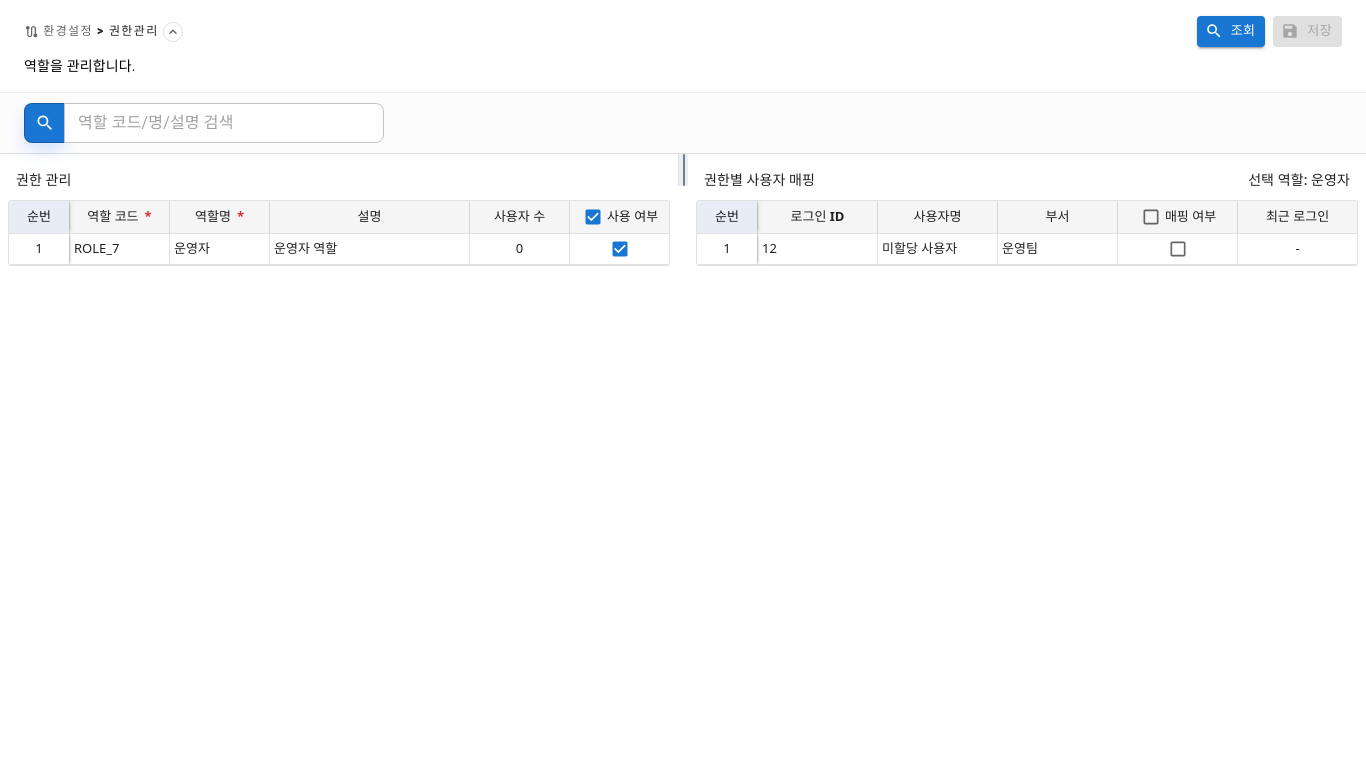
Test: RoleManagementPage notifications › shows the shared success toast after a silent mapping save completes
This screenshot has width=1366, height=768.
What coordinates should you click on to do the following:
click the checkbox named "매핑 여부 12"
I would click on:
 (1178, 249)
Its box is left=1168, top=239, right=1188, bottom=259.
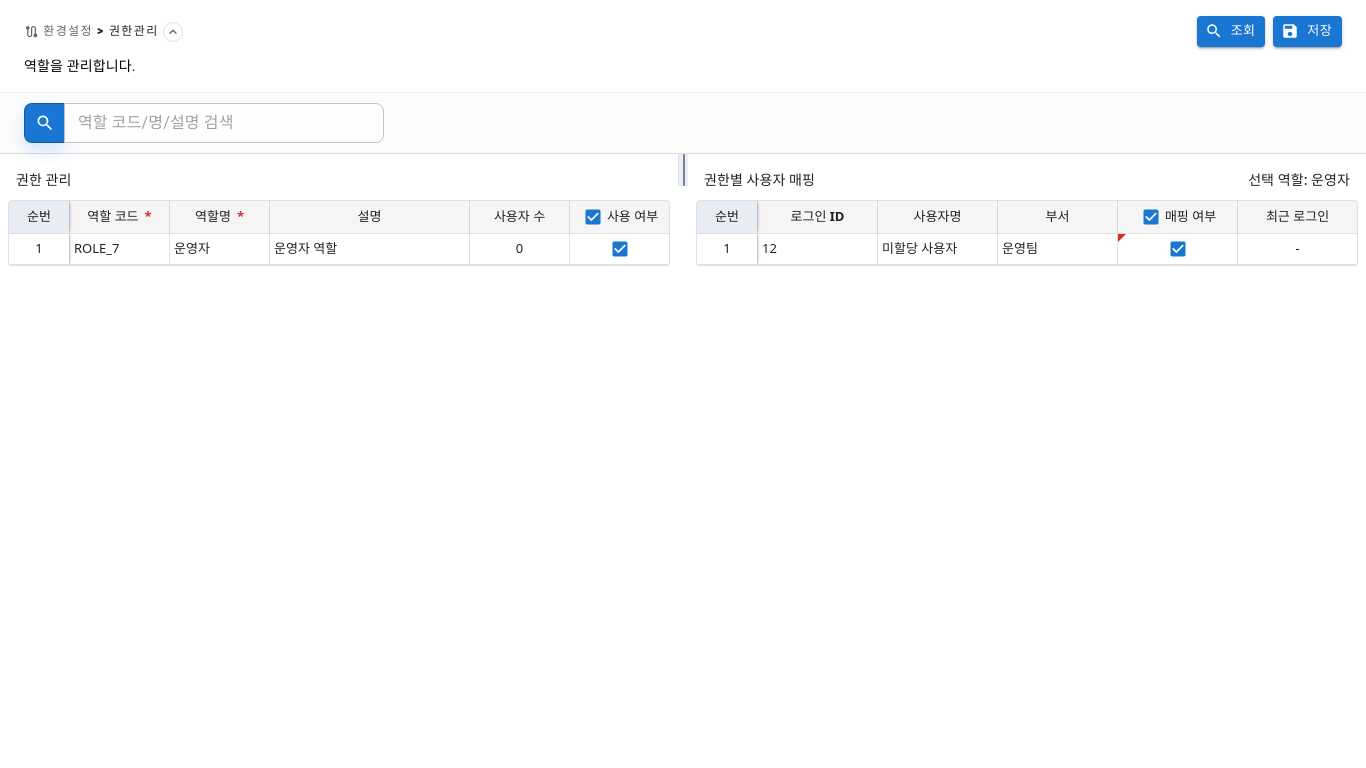
What coordinates should you click on to do the following:
click the button "저장"
I would click on:
 (1308, 31)
Its box is left=1273, top=16, right=1342, bottom=47.
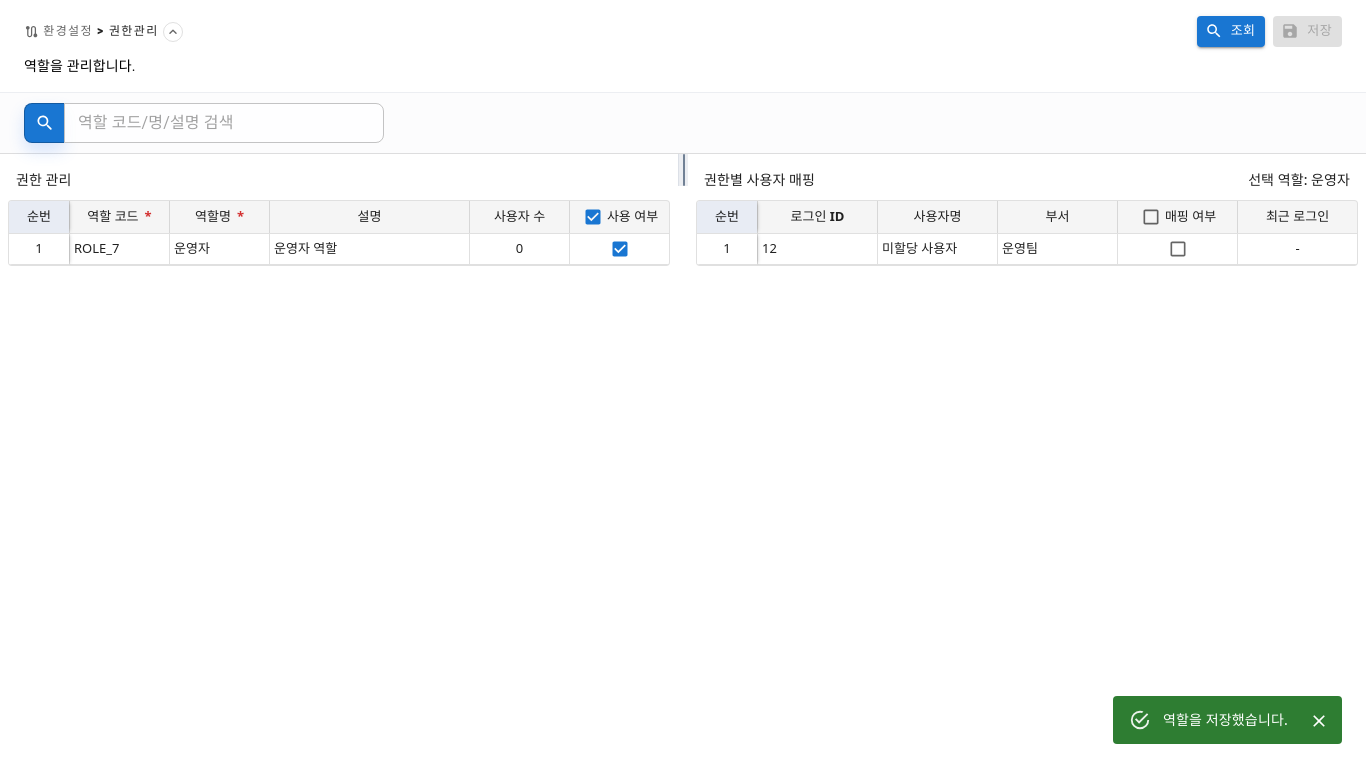
Expected: the text "역할을 저장했습니다." is shown, left=1163, top=712, right=1288, bottom=728
